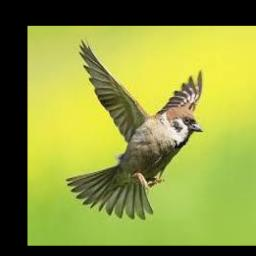Sparrow: (66, 37, 203, 220)
